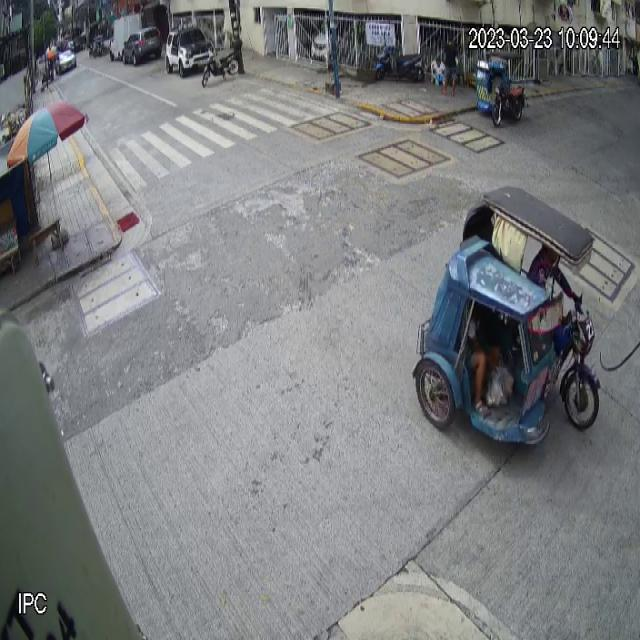Motorcycle: (374, 41, 424, 84), (202, 37, 242, 87)
Tricycle: (411, 183, 604, 459), (475, 50, 527, 129)
